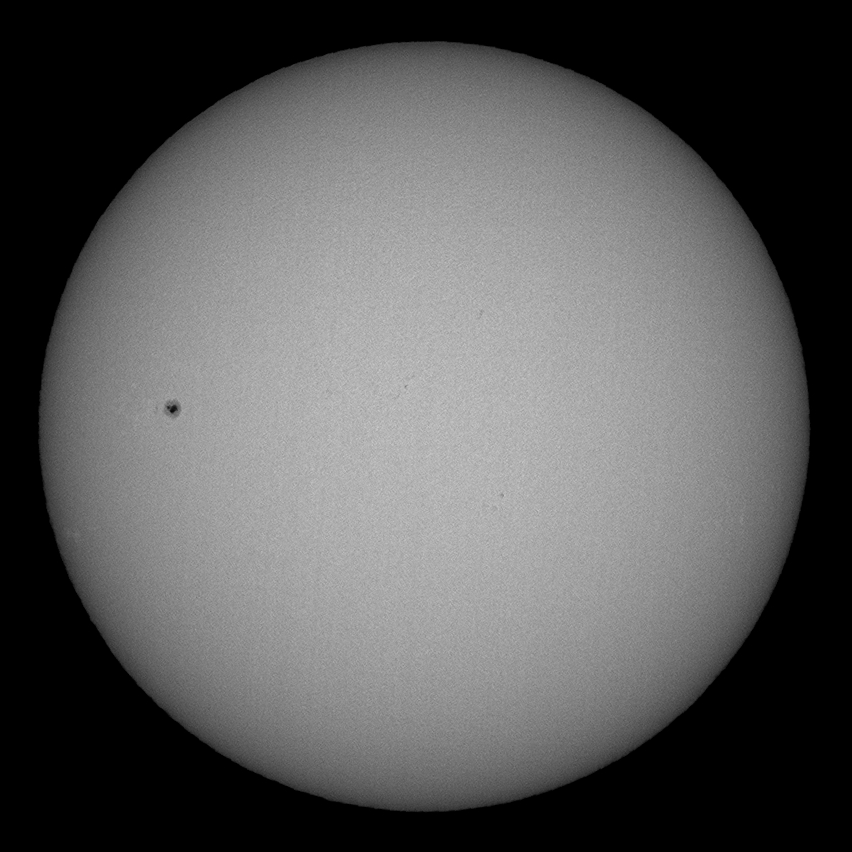sunspot: (155, 394, 189, 422)
